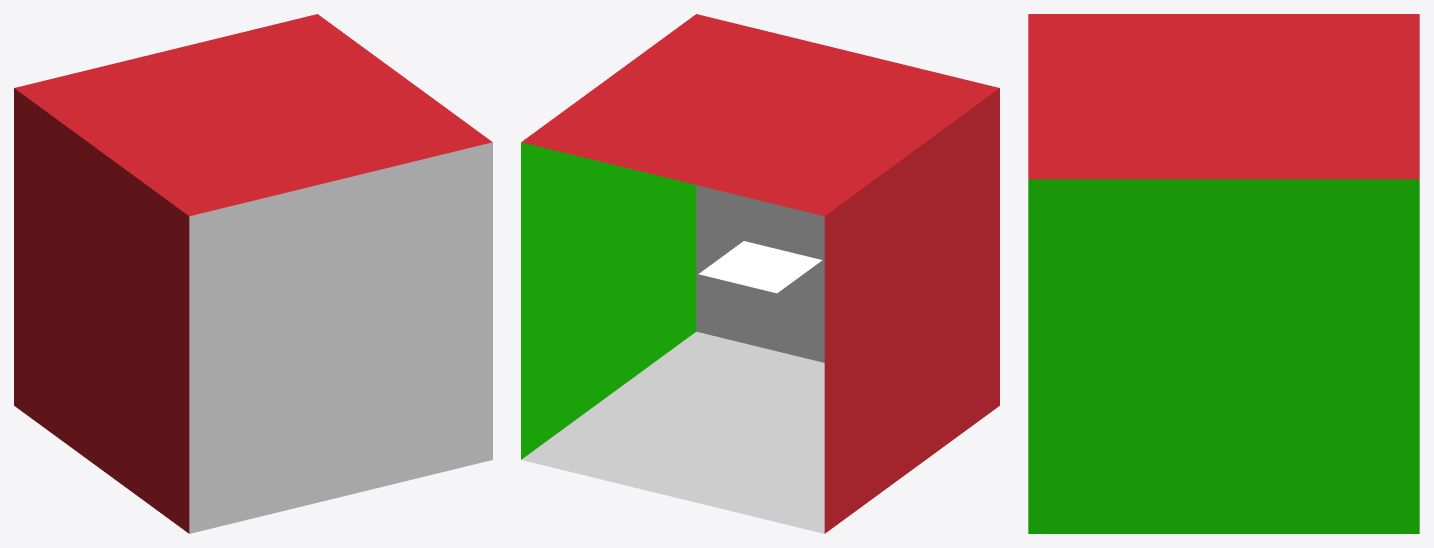
Rendered from cornell_box.gltf.
3 views of the same model, side by side, from view 1: azimuth 30°, elevation 25°; view 2: azimuth 150°, elevation 25°; view 3: azimuth 270°, elevation 25° (orthographic). The views are drawn at different scales.
Parts seen in each view (by area): view 1: Cube; view 2: Cube, Plane; view 3: Cube.
Part boxes in pixels (box(x1,y1,x2,y2)): Cube: box(14, 14, 492, 533); Cube: box(521, 14, 999, 533); Plane: box(698, 241, 822, 293); Cube: box(1028, 14, 1419, 533).
Size of the model in its own units: 2 by 2 by 2.
